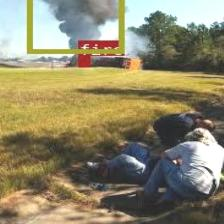fire: (77, 55, 89, 66)
smoke: (26, 0, 123, 52)
